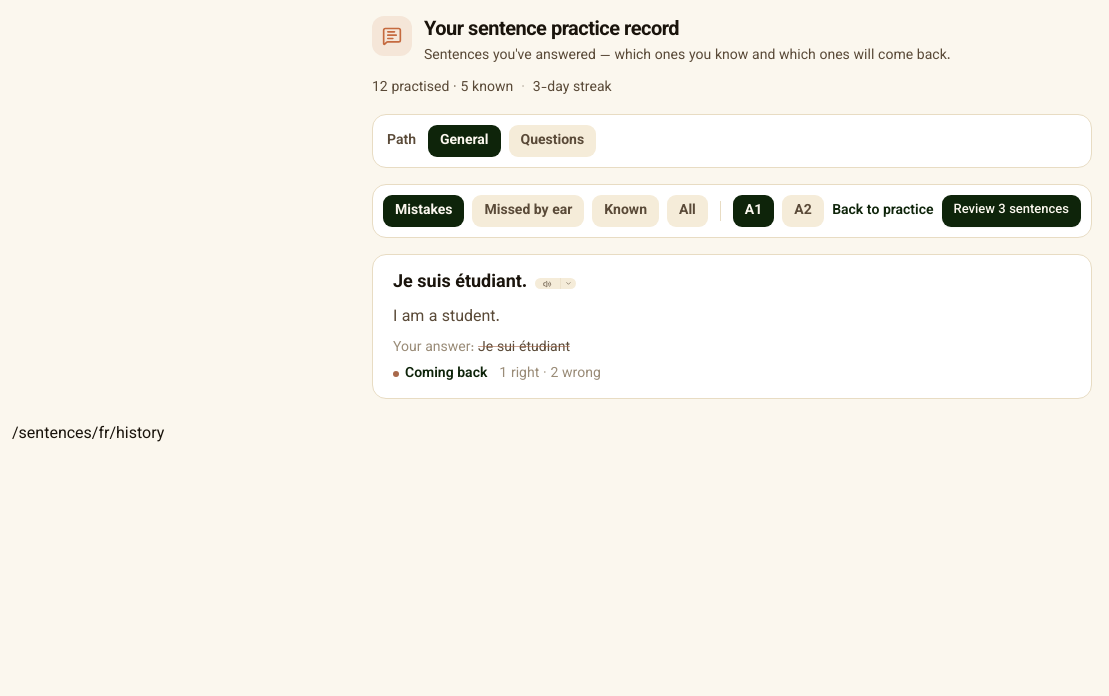
Test: the record › opens on the mistakes with the learner's numbers; each tab asks the server for its own list
Expected: the number of list items with test id "history-row" is 1, x1=393 y1=269 x2=601 y2=385
Expected: the list with test id "history-list" shows "Je suis étudiant.", x1=372 y1=254 x2=1092 y2=399
Click the button with test id "tab-learned" at (626, 211), box x1=592 y1=195 x2=659 y2=227
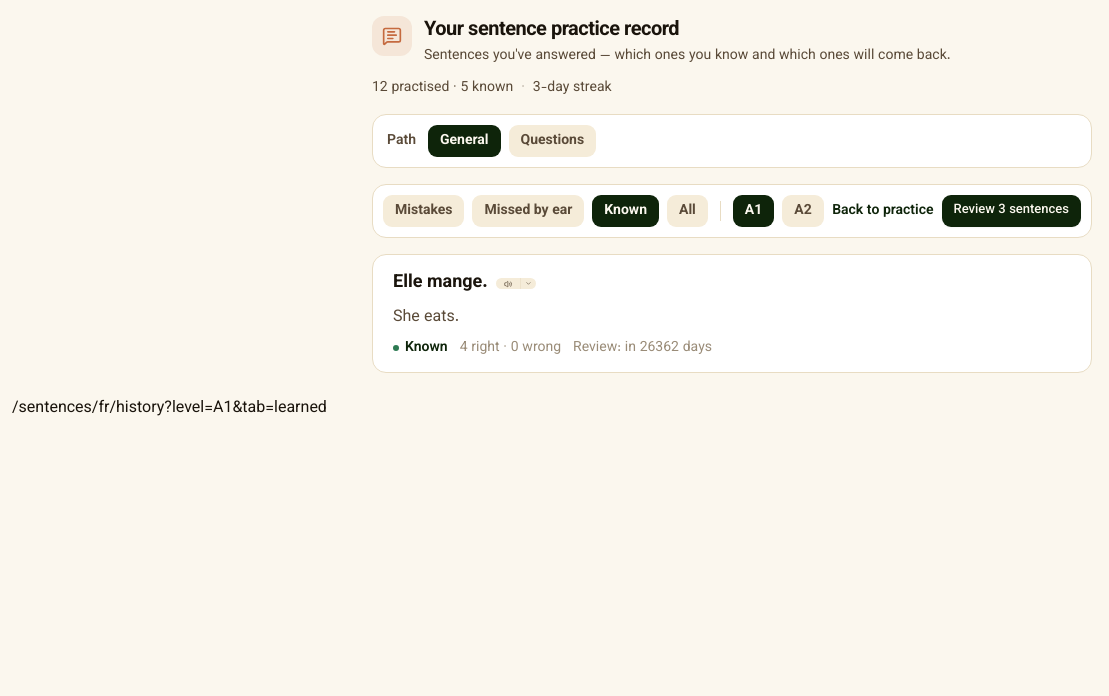
Expected: the list item with test id "history-row" shows "Review: in", x1=573 y1=337 x2=712 y2=359
Click the button with test id "tab-misheard" at (528, 211), box x1=472 y1=195 x2=584 y2=227
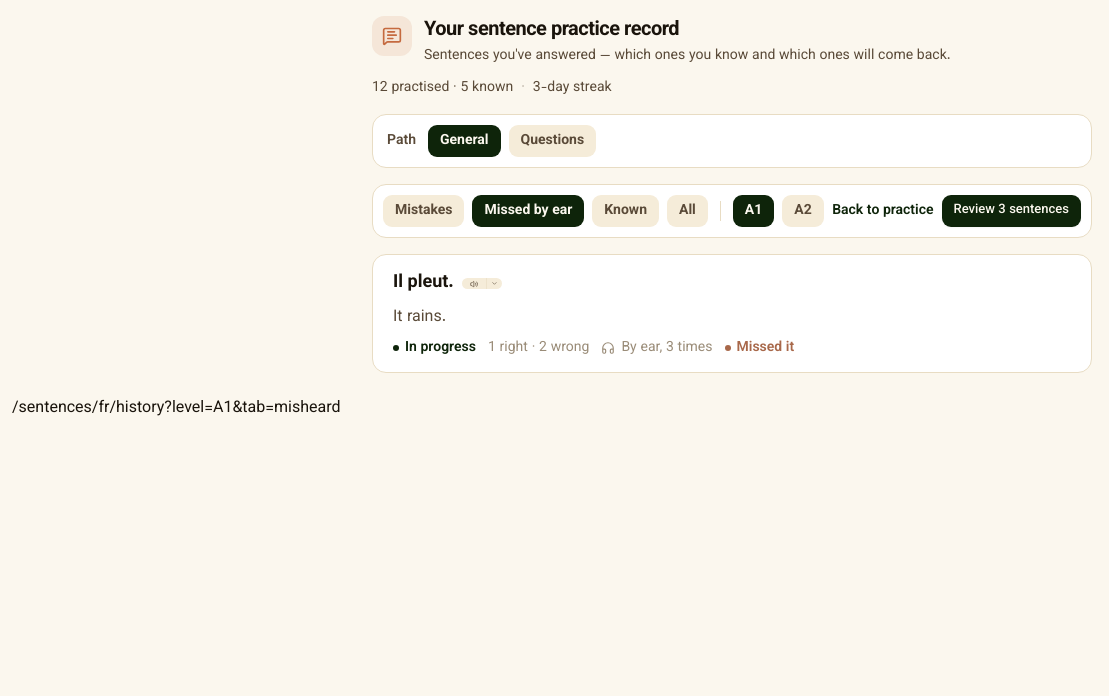
Expected: the list item with test id "history-row" shows "Missed it", x1=736 y1=337 x2=794 y2=359
Expected: the list item with test id "history-row" shows "By ear, 3 times", x1=621 y1=337 x2=712 y2=359
Click the button with test id "tab-all" at (687, 211), box x1=667 y1=195 x2=708 y2=227
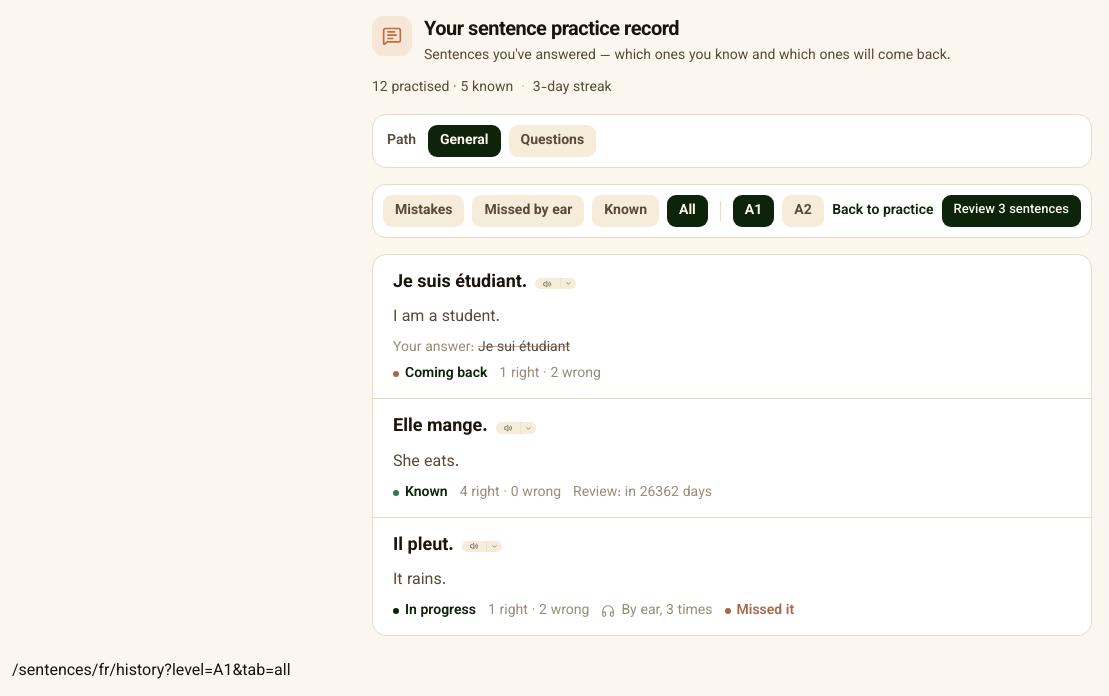
Expected: the number of list items with test id "history-row" is 3, x1=373 y1=255 x2=1091 y2=399; x1=373 y1=399 x2=1091 y2=518; x1=393 y1=532 x2=794 y2=622
